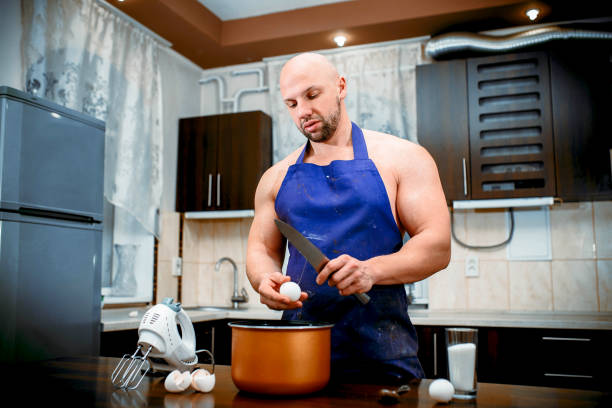knife: (273, 218, 372, 306)
